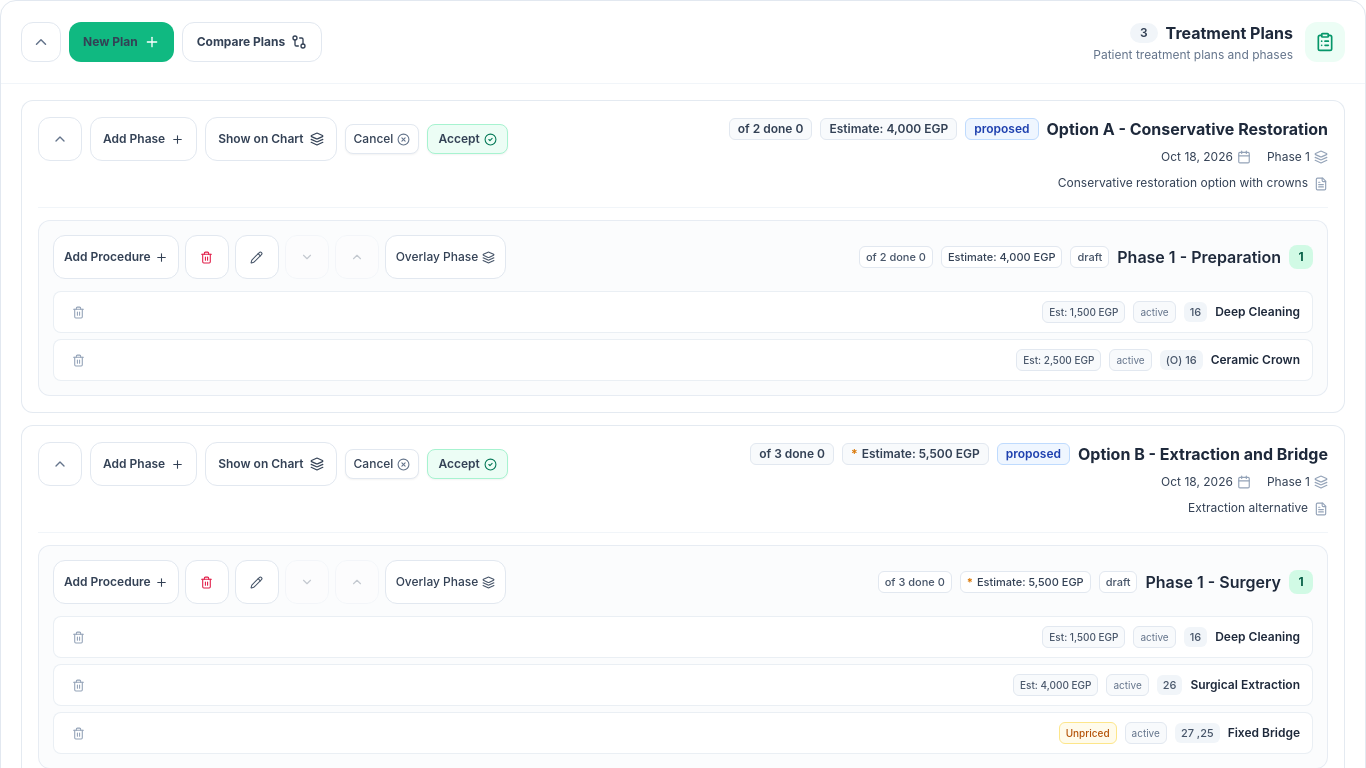
Scenario: TreatmentPlansCard & Feature Gating › Treatment Plan Comparison UX (G9-M11 / S14) › renders plan dropdown selectors when >= 3 plans exist and allows switching compared plans
Click the button with test id "compare-clinical-plans-button" at (252, 42), box [182,22,322,62]
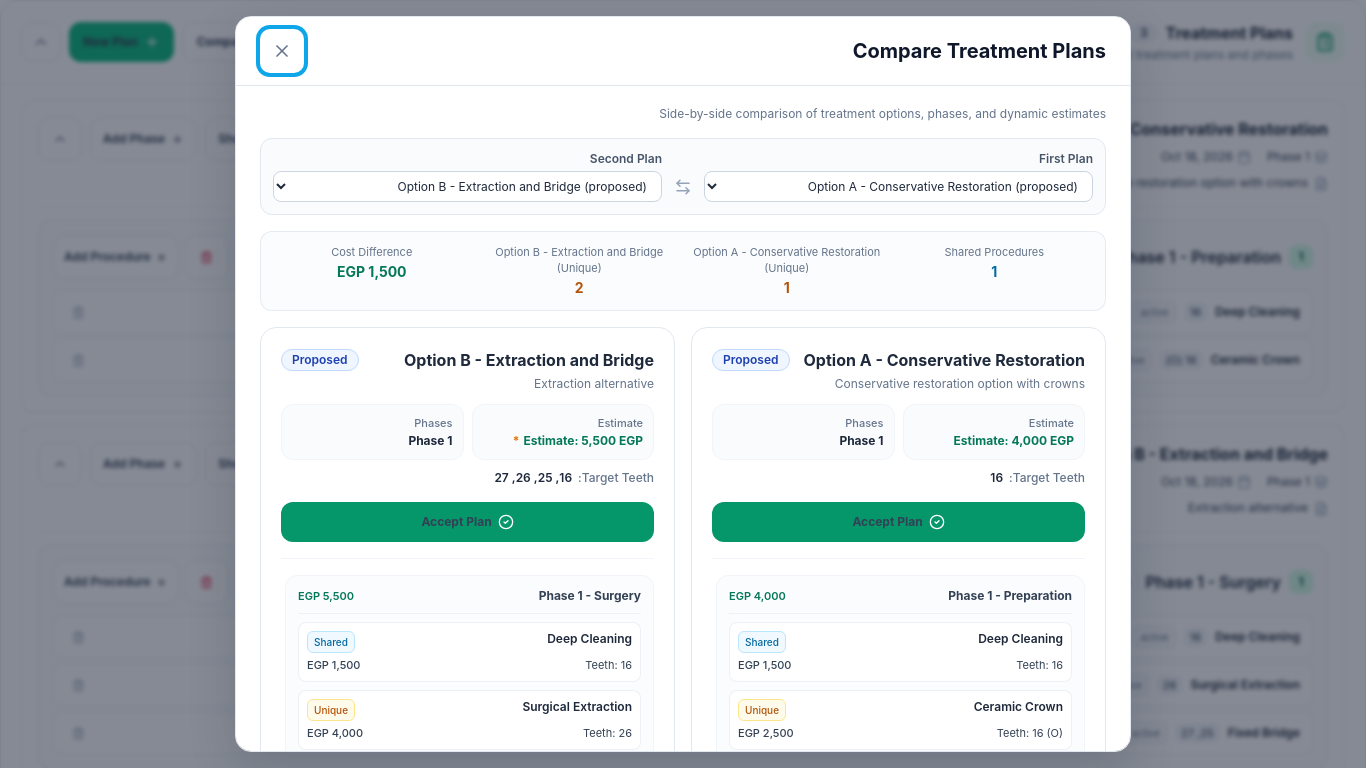
Check: the dropdown with test id "compare-plan-a-select" is shown, box [704,171,1093,202]
Check: the dropdown with test id "compare-plan-b-select" is shown
Note: Change Plan B dropdown to planGamma (id 30)
Select "Option C - Alignment Only (draft)" in the dropdown with test id "compare-plan-b-select" at (468, 186), box [273,171,662,202]
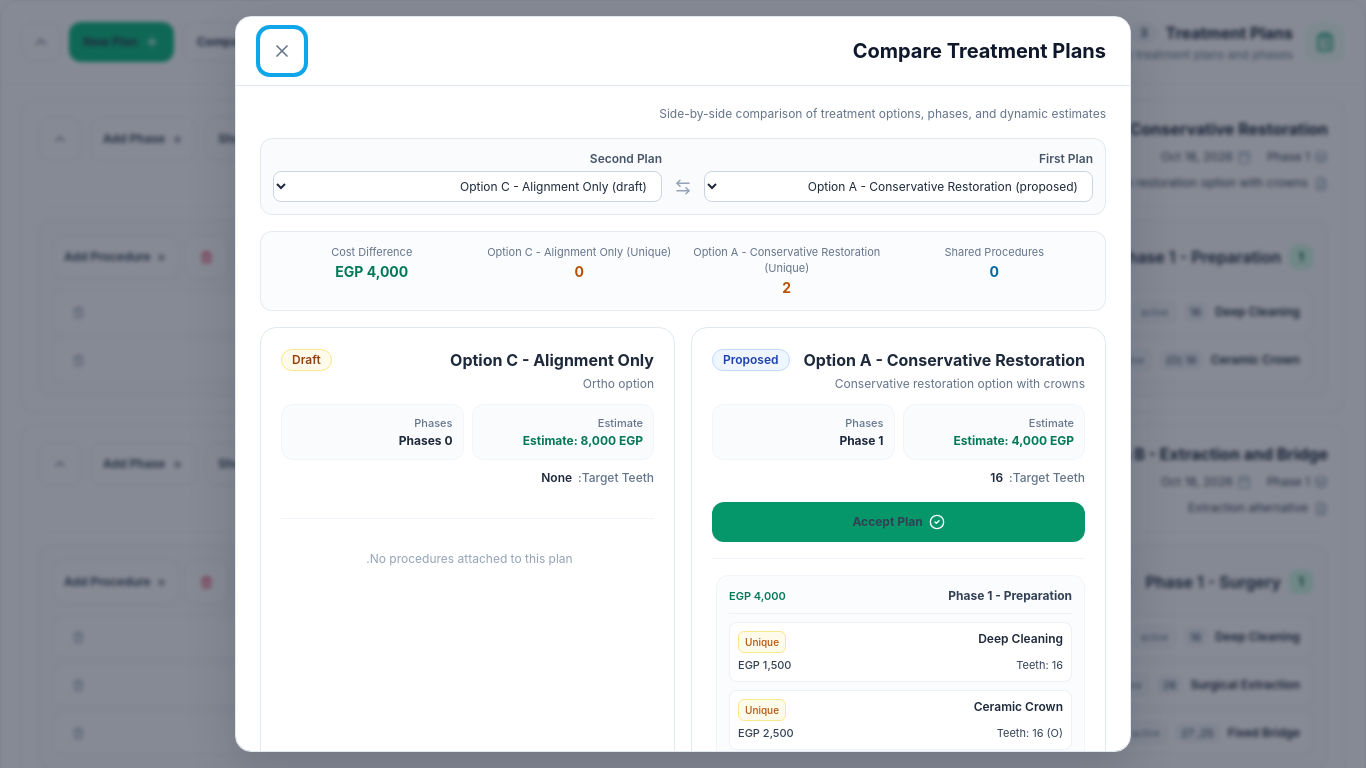
Check: the heading "Option C - Alignment Only" is shown, box [450,348,654,372]
Check: the text with test id "comparison-plan-estimate-30" shows "8,000 EGP", box [581,433,643,448]
